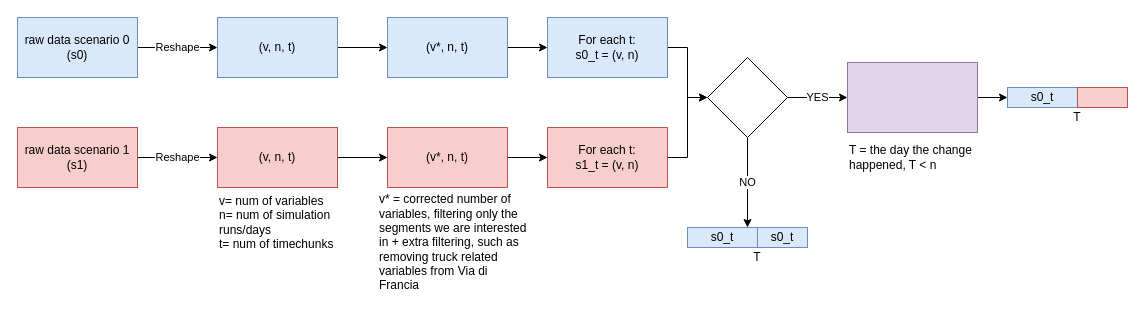
Image size: 1145x310. Some labels were removed from this diagram. The centre of each missing label's shape, as x and y in pixels:
"Change?" goes at point (747, 97).
"Concatenate s0_t[:, :T] s1_t[:, T:]" goes at point (912, 97).
"s1_t" goes at point (1102, 97).
